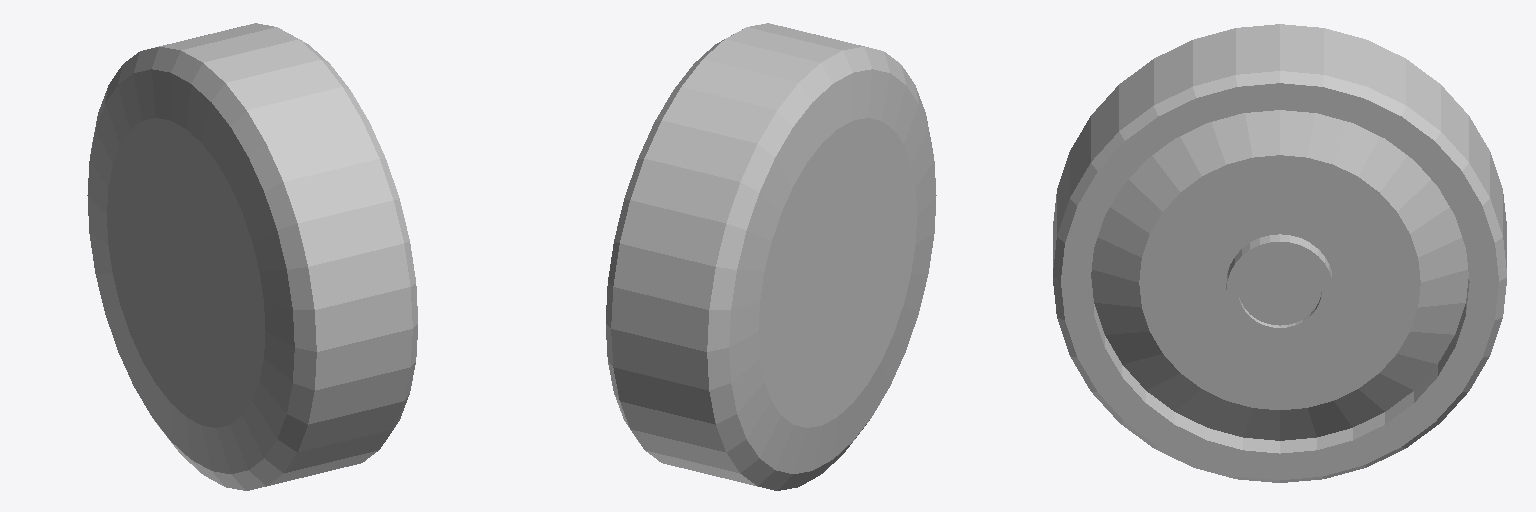
The model's file is inprocessbootleggerwheel.obj.
3 renders of one model, left to right at view 1: azimuth 30°, elevation 25°; view 2: azimuth 150°, elevation 25°; view 3: azimuth 270°, elevation 25°, orthographic.
Parts seen in each view (by area): view 1: Cylinder; view 2: Cylinder; view 3: Cylinder.
Part boxes in pixels (bbox=[...]): Cylinder: bbox=[87, 23, 417, 490]; Cylinder: bbox=[606, 23, 936, 490]; Cylinder: bbox=[1053, 24, 1506, 482].
Bounding box in the file's own units: 0.3194 × 0.901 × 0.901.